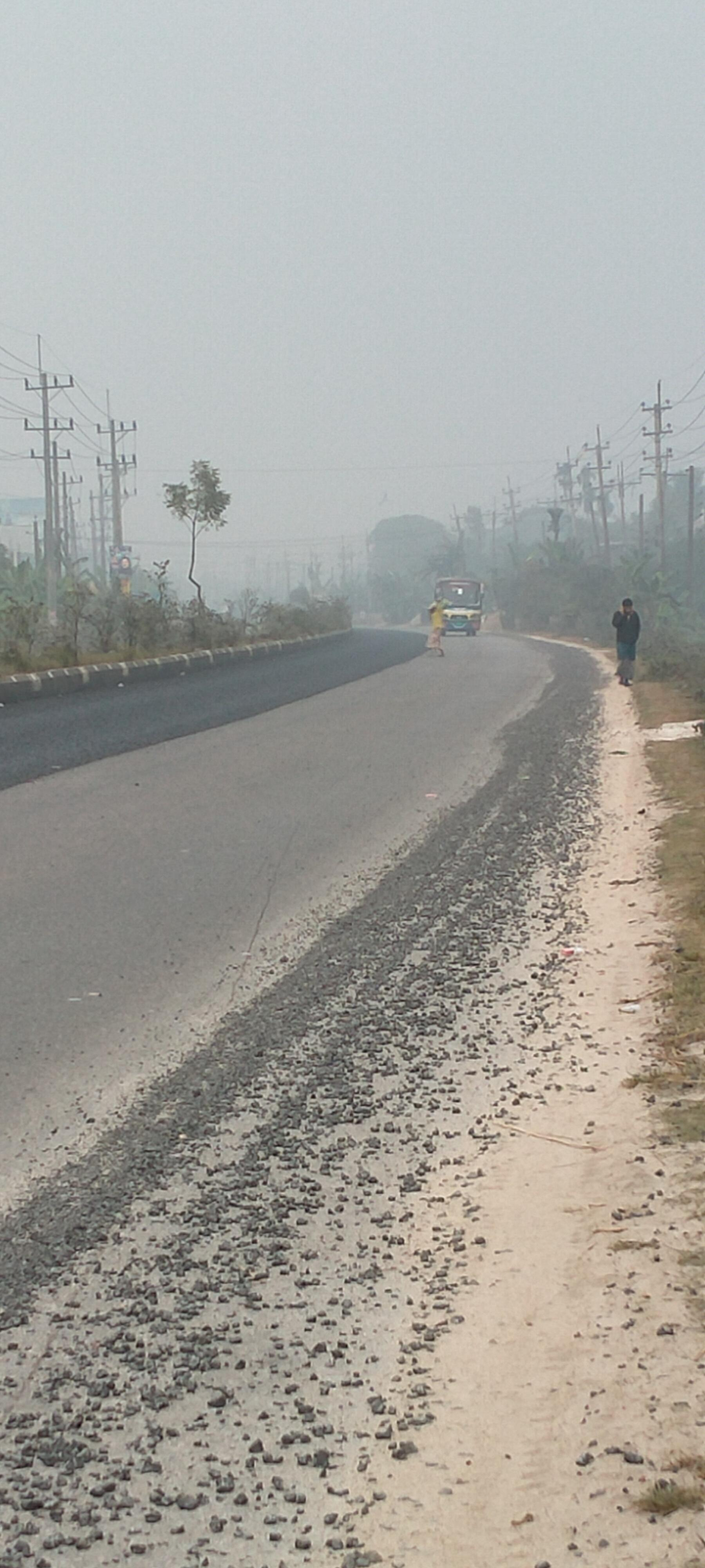Bus: (427, 565, 509, 657)
